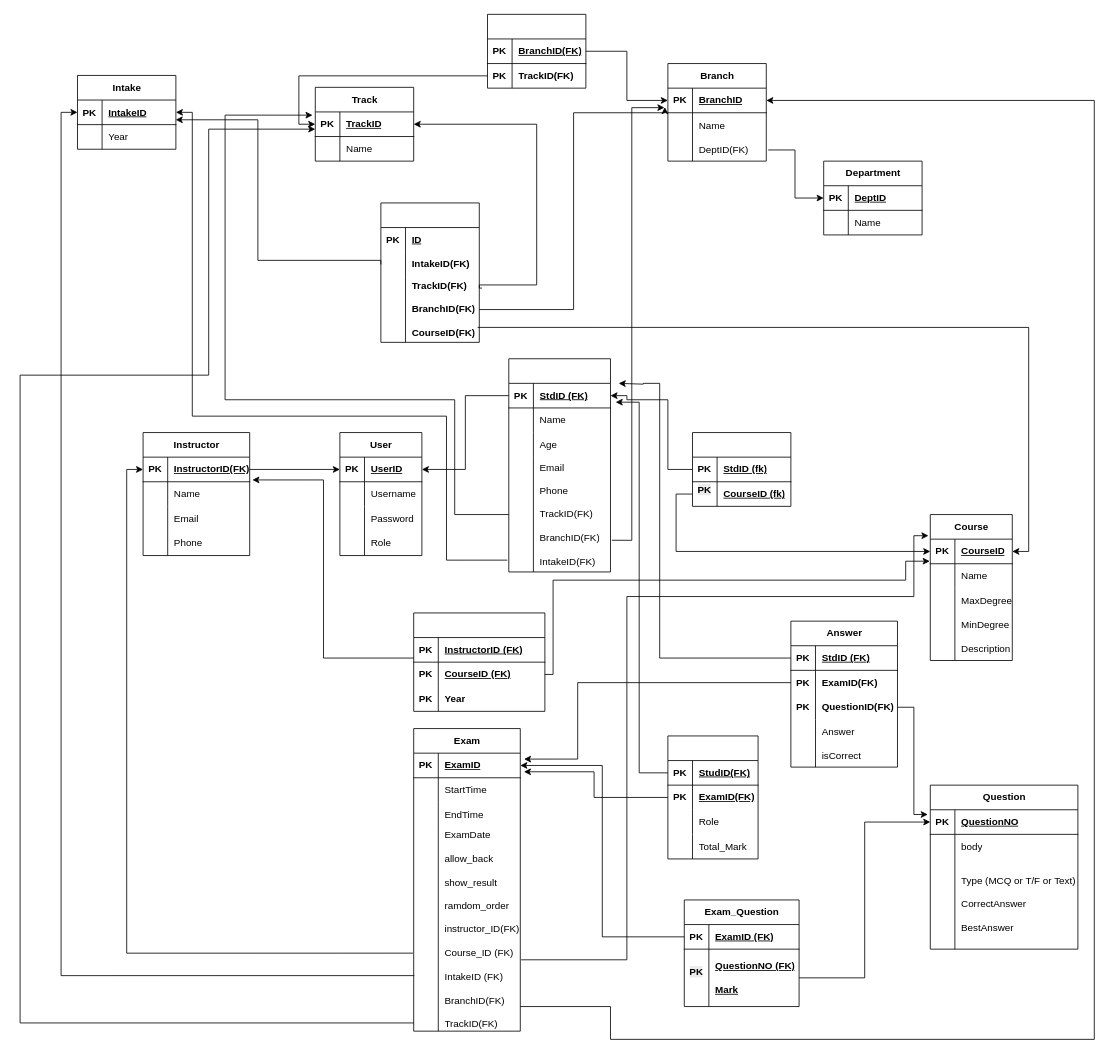
The diagram is 1115 pixels wide and 1060 high, and some of its shapes have lost their labels. Each missing label, with the box of its shape:
BranchTrack: (487, 14, 586, 88)
Class: (380, 202, 479, 342)
InstructorTeachCourse: (413, 612, 545, 711)
Stud_Course: (692, 432, 791, 506)
Stud_Exam: (667, 735, 758, 859)
Student: (508, 358, 610, 572)
